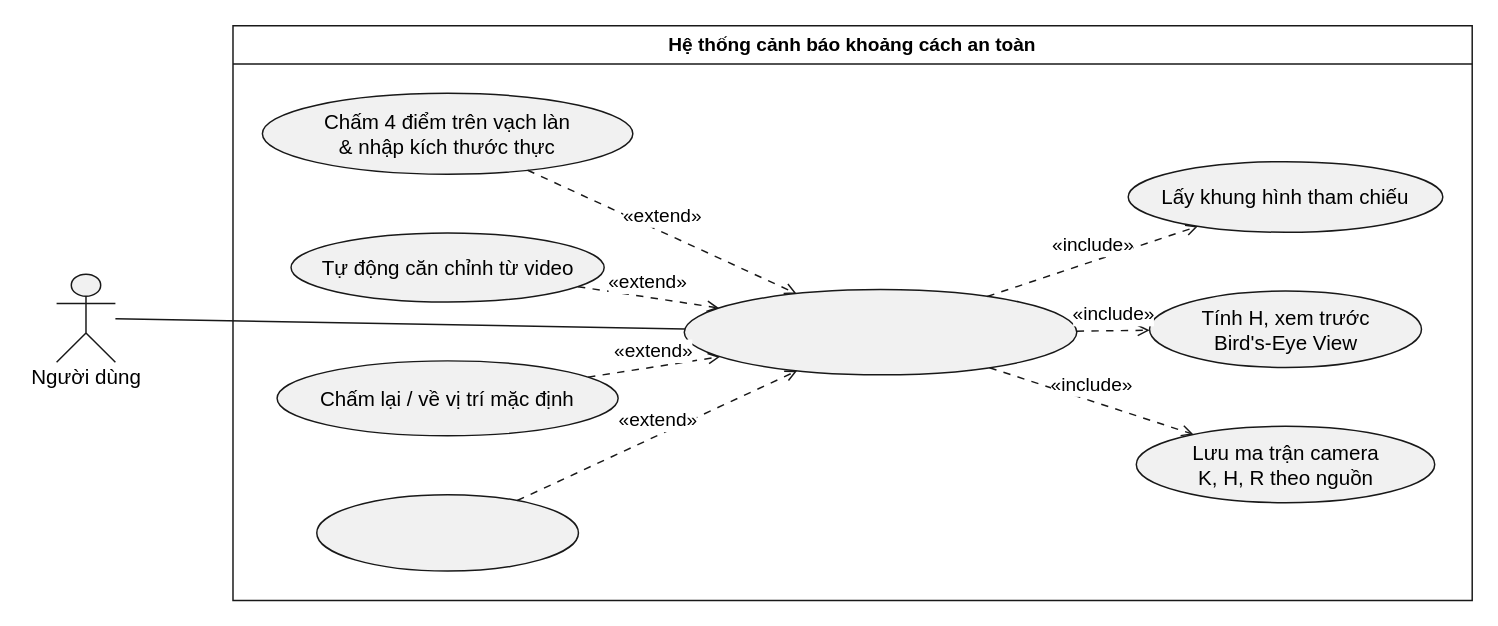
The diagram is 1498 pixels wide and 626 high, and some of its shapes have lost their labels. The box of each missing label's shape, as (x1, y1, x2, y2) in pixels:
Tự nạp căn chỉnh khi mở lại nguồn: (315, 493, 578, 571)
UC02. Cấu hình thông số IPM (căn chỉnh camera): (683, 288, 1077, 375)
